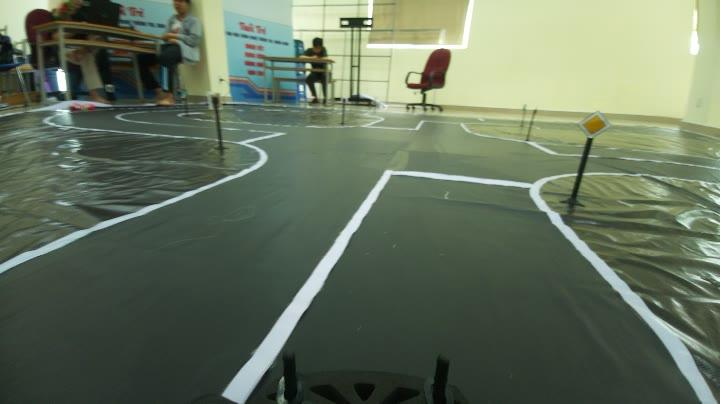priority: (576, 106, 615, 144)
